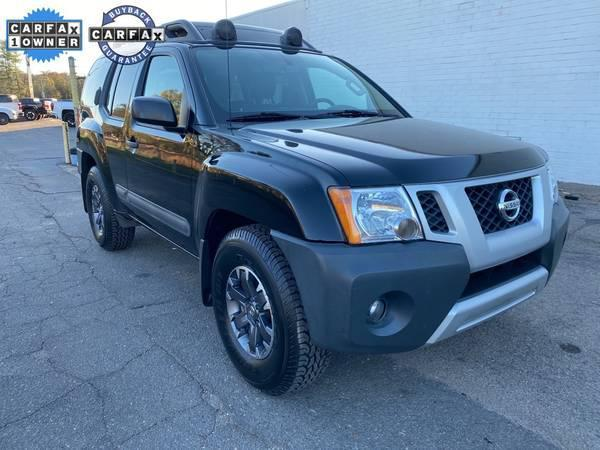Front_Bumper: (271, 194, 569, 354)
Front_Fender: (195, 125, 348, 263)
Front_Right_Door: (126, 121, 197, 256)
Front_Right_Window: (125, 49, 192, 127)
Front_Windshield: (190, 43, 403, 122)
Grille: (403, 159, 555, 269)
Hood: (217, 114, 546, 186)
Rear_Fender: (73, 57, 110, 174)
Rear_Right_Door: (100, 115, 127, 206)
Rear_Right_Window: (103, 51, 144, 121)
Right_Headlight: (330, 188, 427, 248)
Roof: (92, 20, 325, 123)
Wheel: (202, 222, 326, 388), (85, 162, 135, 247)
